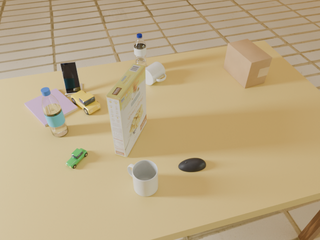book: (24, 88, 78, 127)
bottle: (41, 87, 68, 137), (134, 34, 147, 67)
box: (106, 63, 146, 157), (224, 39, 272, 88)
cup: (128, 160, 158, 196), (146, 62, 166, 85)
mouse: (178, 158, 206, 172)
phone: (60, 62, 81, 93)
toy_car: (71, 90, 100, 115), (66, 148, 87, 169)
